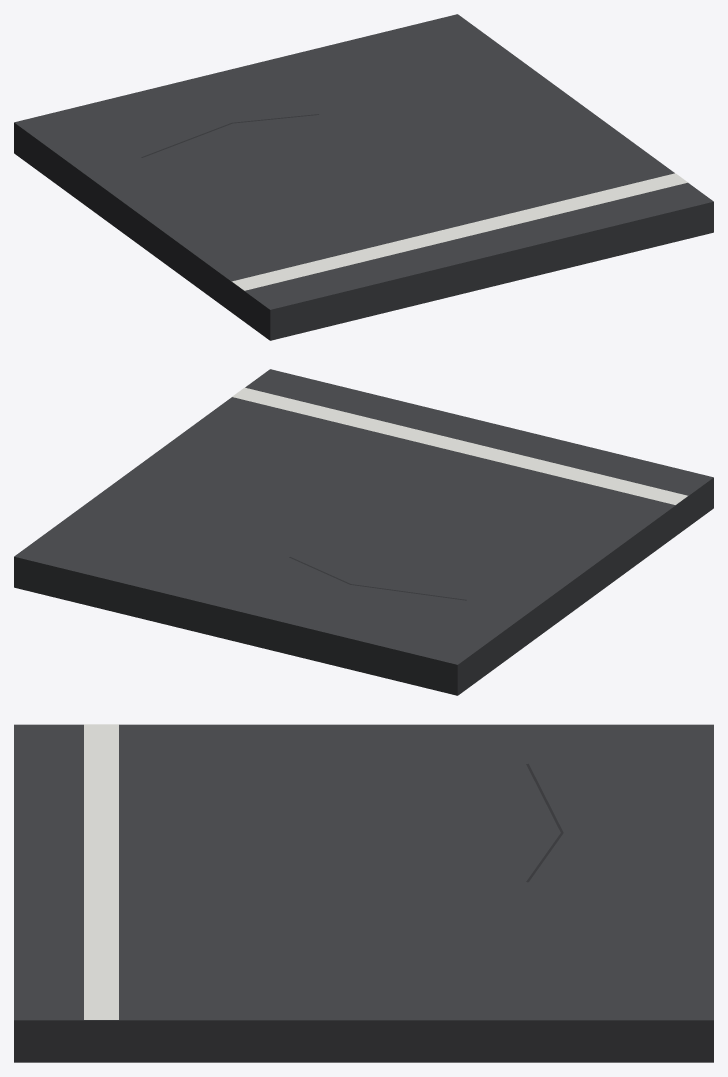
File: SC_Gnd_Road_Edge_3x3.gltf
3 views of the same model, one above another, from view 1: azimuth 30°, elevation 25°; view 2: azimuth 150°, elevation 25°; view 3: azimuth 270°, elevation 25° (orthographic). The views are drawn at different scales.
Parts seen in each view (by area): view 1: SC_Gnd_Road_Edge_3x3; view 2: SC_Gnd_Road_Edge_3x3; view 3: SC_Gnd_Road_Edge_3x3.
Boxes of the visible parts, x1,y1,x2,y2 form: SC_Gnd_Road_Edge_3x3: (14, 14, 713, 340); SC_Gnd_Road_Edge_3x3: (14, 369, 713, 695); SC_Gnd_Road_Edge_3x3: (14, 724, 713, 1062).
Size of the model in its own units: 3 by 0.202 by 3.
Materials: 1 (1 with a texture image).
